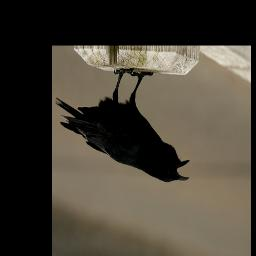Crow: (55, 67, 190, 182)
